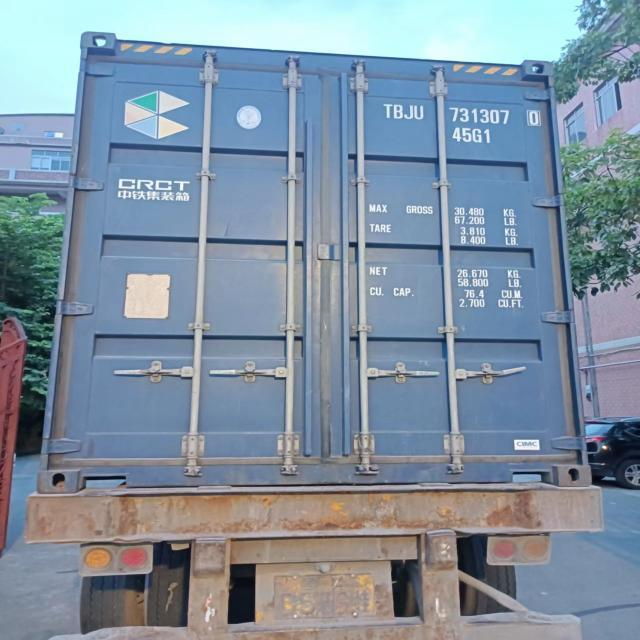ISO: (452, 126, 492, 145)
container_number: (383, 106, 544, 126)
